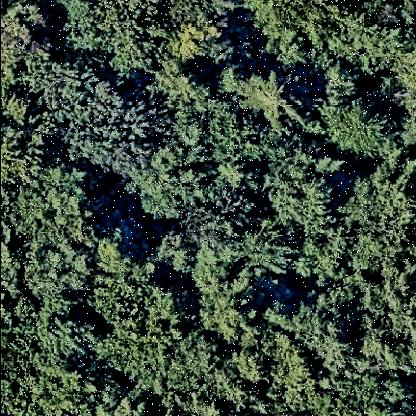tree-top: (233, 293, 346, 409), (69, 71, 157, 181), (342, 159, 416, 281), (2, 315, 90, 409), (62, 1, 170, 74), (100, 296, 192, 378), (349, 279, 416, 383), (241, 1, 344, 65), (178, 98, 262, 173), (265, 150, 335, 232), (9, 168, 88, 239), (329, 1, 401, 74), (87, 252, 161, 322), (129, 153, 199, 227), (18, 233, 94, 301), (160, 343, 231, 413), (160, 1, 234, 68), (1, 1, 62, 81), (175, 186, 248, 252), (324, 97, 392, 163), (198, 271, 262, 341), (148, 50, 216, 114), (293, 226, 356, 293), (338, 363, 416, 416), (240, 71, 304, 129), (385, 31, 416, 149), (243, 221, 301, 281), (3, 121, 47, 191)
